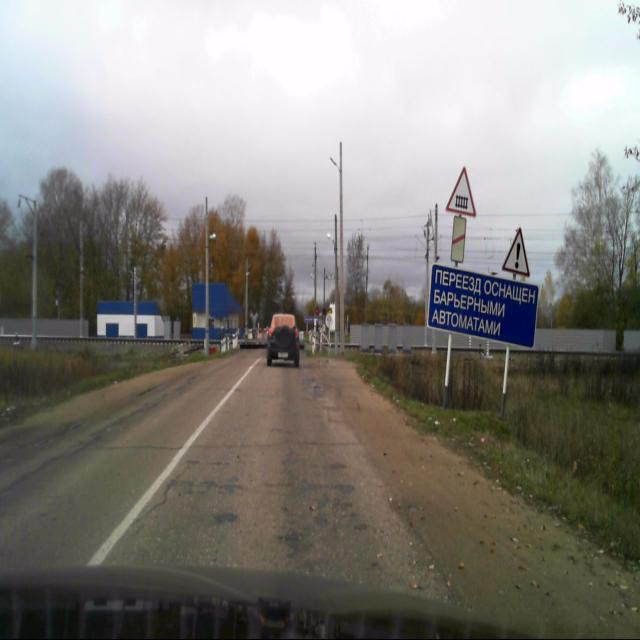object: (426, 264, 540, 351), (451, 220, 465, 262)
road sign: (444, 166, 476, 218), (502, 226, 531, 277)
